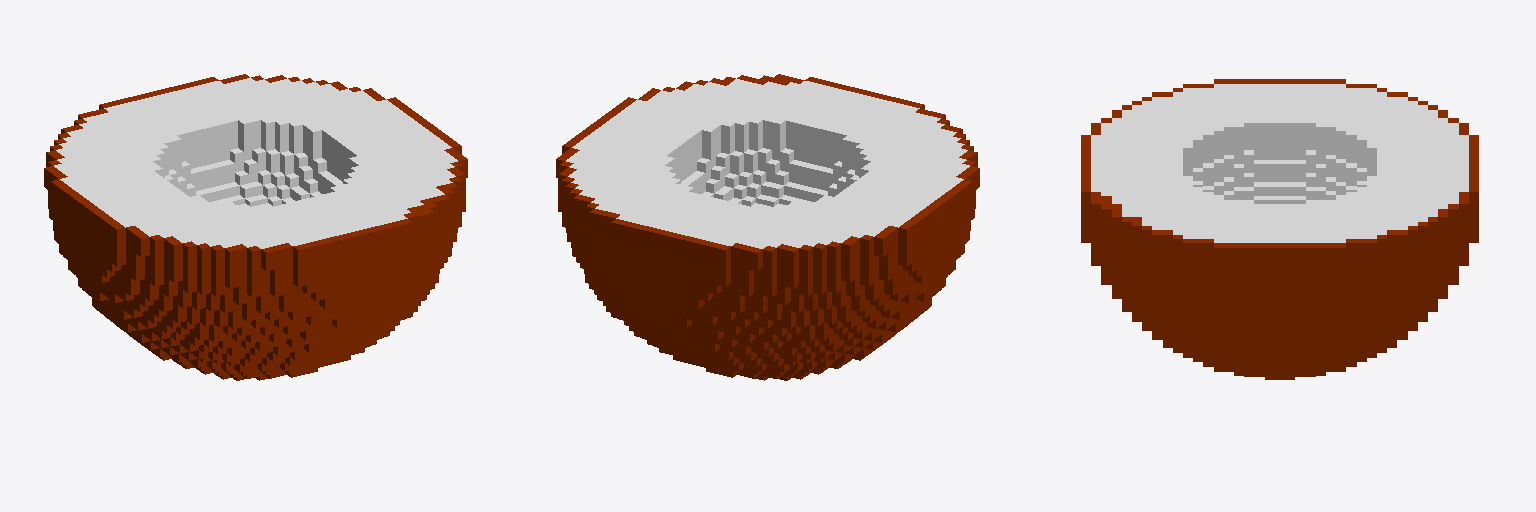
The picture shows the model from 3 angles: view 1: azimuth 30°, elevation 25°; view 2: azimuth 150°, elevation 25°; view 3: azimuth 270°, elevation 25°; orthographic projection.
Size of the model in its own units: 39 by 20 by 39.
1 materials, 1 textured.